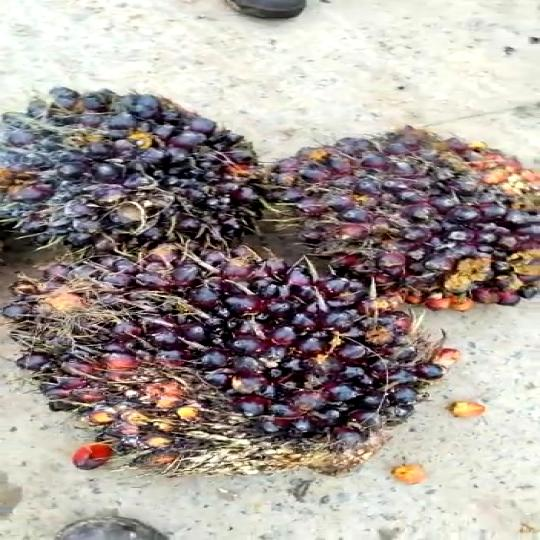kurang masak: (0, 241, 442, 496), (265, 120, 540, 298), (0, 86, 268, 251)
